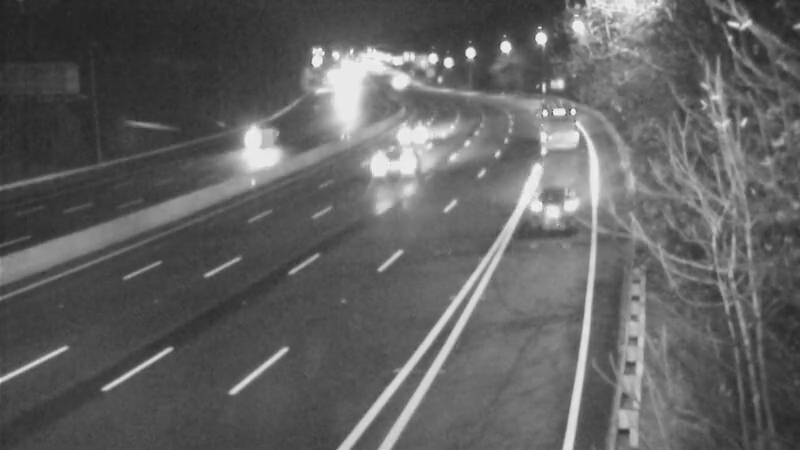vehicle: (359, 127, 439, 207), (505, 162, 585, 242), (529, 97, 579, 147), (398, 101, 448, 151), (224, 118, 274, 168)
